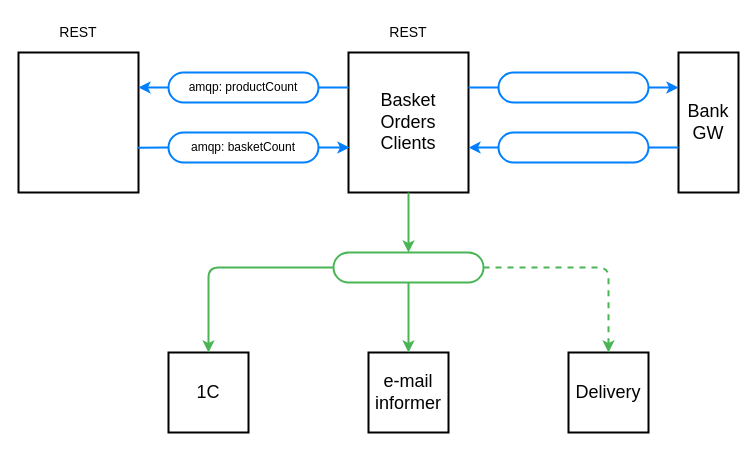
The diagram is 756 pixels wide and 450 high, and some of its shapes have lost their labels. Here are the shapes that lost their labels. From the top down, the centre of each, then its label:
At (573,87): "amqp: payInfo".
At (78,122): "Catalog Storage".
At (573,147): "amqp: payResult".
At (408,267): "amqp: orderInfo".
